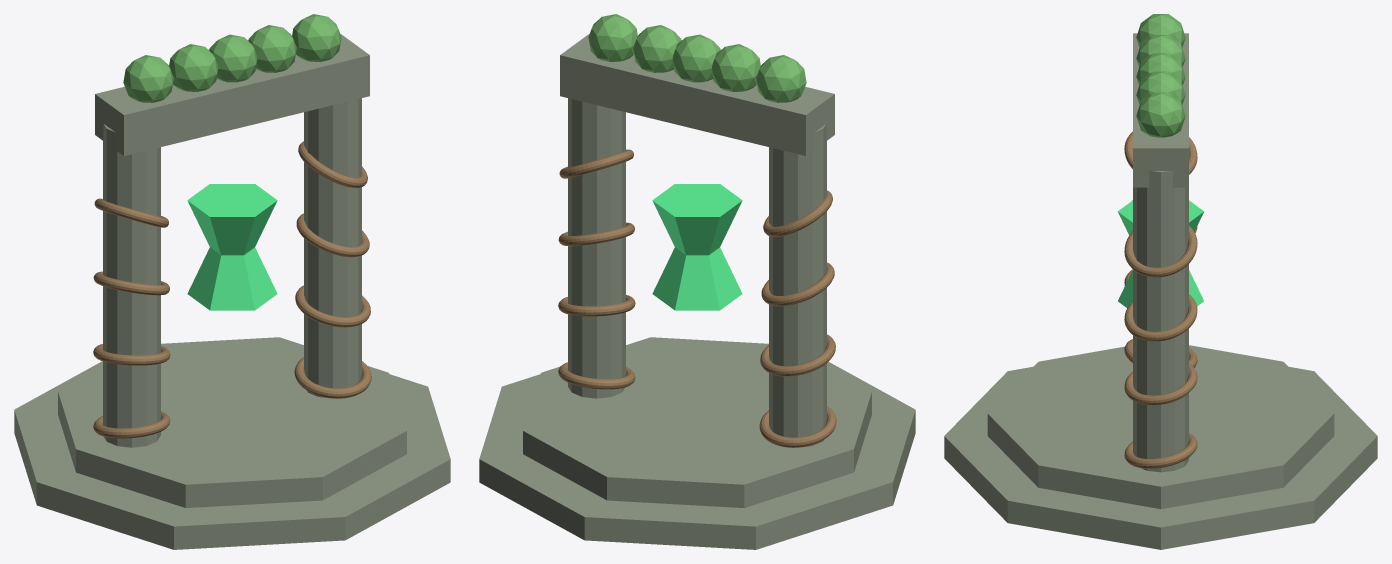
Rendered from Portal_Bosque_Susurros.fbx.
3 renders of one model, left to right at view 1: azimuth 30°, elevation 25°; view 2: azimuth 150°, elevation 25°; view 3: azimuth 270°, elevation 25°, orthographic. The views are drawn at different scales.
Visible parts, largest first — view 1: P1_Base_Piedra_2, P1_Base_Piedra_1, P1_Pilar_L, P1_Pilar_R, P1_Dintel_Arco, P1_Cristal_Bot, P1_Cristal_Top, P1_Hojas_-1.5, P1_Hojas_1.5, P1_Hojas_-0.7, P1_Hojas_0, P1_Hojas_0.7 (+8 smaller); view 2: P1_Base_Piedra_2, P1_Base_Piedra_1, P1_Pilar_L, P1_Pilar_R, P1_Dintel_Arco, P1_Cristal_Bot, P1_Cristal_Top, P1_Hojas_-1.5, P1_Hojas_1.5, P1_Hojas_-0.7, P1_Hojas_0, P1_Hojas_0.7 (+8 smaller); view 3: P1_Base_Piedra_2, P1_Base_Piedra_1, P1_Pilar_R, P1_Dintel_Arco, P1_Hojas_1.5, P1_Enredadera_1.8_3, P1_Enredadera_1.8_2, P1_Enredadera_1.8_1, P1_Hojas_0.7, P1_Hojas_-1.5, P1_Enredadera_1.8_0, P1_Hojas_-0.7 (+3 smaller).
Part boxes in pixels (x1=…): P1_Base_Piedra_2: x1=58, y1=337, x2=406, y2=507; P1_Base_Piedra_1: x1=14, y1=361, x2=450, y2=549; P1_Pilar_L: x1=103, y1=124, x2=160, y2=447; P1_Pilar_R: x1=304, y1=98, x2=361, y2=397; P1_Dintel_Arco: x1=95, y1=34, x2=369, y2=155; P1_Cristal_Bot: x1=187, y1=184, x2=277, y2=255; P1_Cristal_Top: x1=187, y1=247, x2=277, y2=310; P1_Hojas_-1.5: x1=123, y1=55, x2=173, y2=102; P1_Hojas_1.5: x1=292, y1=14, x2=341, y2=61; P1_Hojas_-0.7: x1=169, y1=44, x2=218, y2=91; P1_Hojas_0: x1=209, y1=34, x2=257, y2=82; P1_Hojas_0.7: x1=248, y1=25, x2=296, y2=72; P1_Base_Piedra_2: x1=523, y1=337, x2=871, y2=507; P1_Base_Piedra_1: x1=479, y1=361, x2=915, y2=549; P1_Pilar_L: x1=769, y1=124, x2=826, y2=446; P1_Pilar_R: x1=568, y1=98, x2=625, y2=398; P1_Dintel_Arco: x1=560, y1=34, x2=834, y2=155; P1_Cristal_Bot: x1=652, y1=184, x2=742, y2=255; P1_Cristal_Top: x1=652, y1=247, x2=742, y2=310; P1_Hojas_-1.5: x1=756, y1=55, x2=806, y2=102; P1_Hojas_1.5: x1=588, y1=14, x2=637, y2=61; P1_Hojas_-0.7: x1=711, y1=44, x2=760, y2=91; P1_Hojas_0: x1=672, y1=34, x2=720, y2=82; P1_Hojas_0.7: x1=633, y1=25, x2=681, y2=72; P1_Base_Piedra_2: x1=987, y1=345, x2=1334, y2=508; P1_Base_Piedra_1: x1=944, y1=367, x2=1377, y2=549; P1_Pilar_R: x1=1133, y1=171, x2=1188, y2=472; P1_Dintel_Arco: x1=1133, y1=33, x2=1188, y2=187; P1_Hojas_1.5: x1=1136, y1=92, x2=1185, y2=137; P1_Enredadera_1.8_3: x1=1124, y1=225, x2=1197, y2=277; P1_Enredadera_1.8_2: x1=1124, y1=294, x2=1197, y2=341; P1_Enredadera_1.8_1: x1=1124, y1=363, x2=1197, y2=405; P1_Hojas_0.7: x1=1136, y1=71, x2=1185, y2=104; P1_Hojas_-1.5: x1=1136, y1=14, x2=1185, y2=47; P1_Enredadera_1.8_0: x1=1124, y1=433, x2=1197, y2=468; P1_Hojas_-0.7: x1=1136, y1=35, x2=1185, y2=67.
Bounding box in the file's own units: 700 × 720 × 700.
